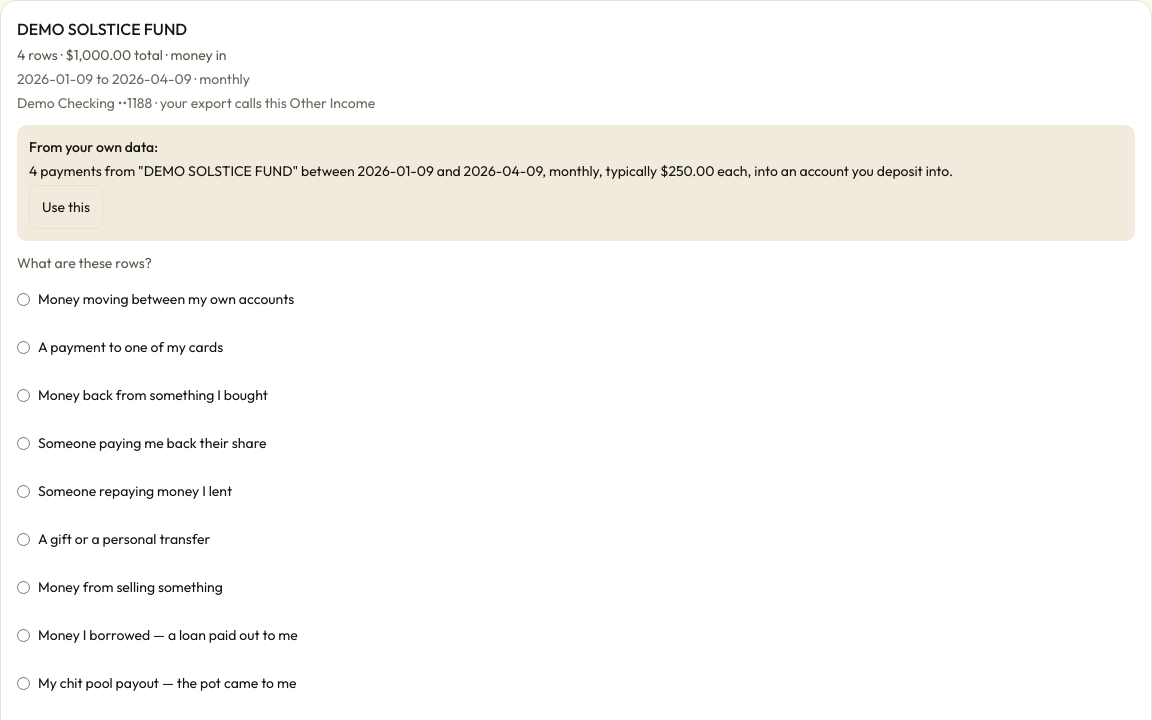
G2 nothing applies without a confirmation › says plainly when the answer has no rule form instead of inventing one
Click the radio button labelled "A gift or a personal transfer" at (24, 539), box [17,532,30,546]
(page scrolled)
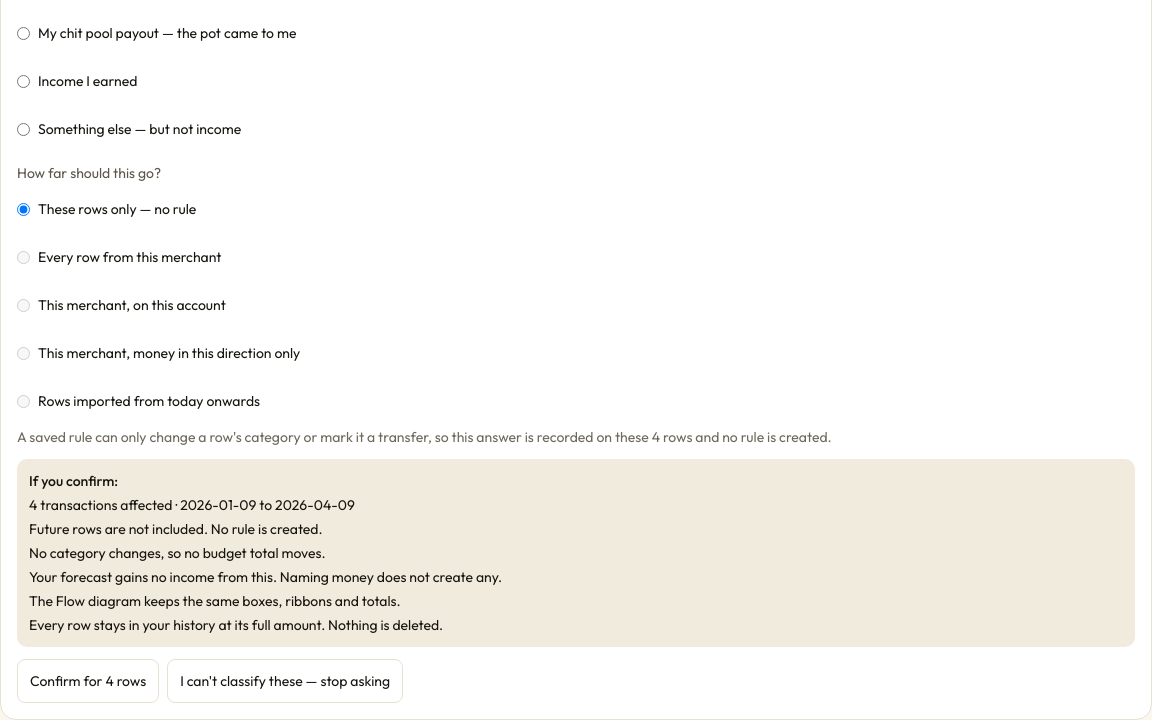
Result: the text "no rule is created" is shown at [692,428,832,446]
